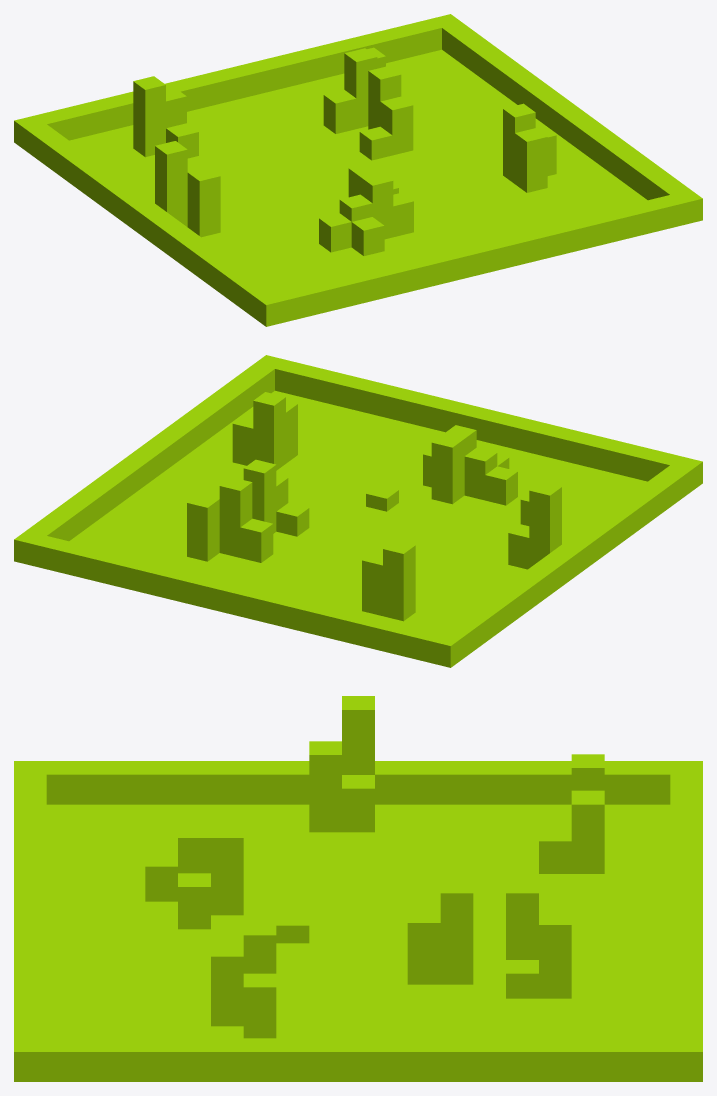
The model's file is map.fbx.
3 renders of one model, top to bottom at view 1: azimuth 30°, elevation 25°; view 2: azimuth 150°, elevation 25°; view 3: azimuth 270°, elevation 25°, orthographic. The views are drawn at different scales.
Visible parts, largest first — view 1: Plane; view 2: Plane; view 3: Plane.
Part boxes in pixels (box(x1,y1,x2,y2)): Plane: box(14, 14, 702, 326); Plane: box(14, 355, 702, 667); Plane: box(14, 696, 702, 1081).
Size of the model in its own units: 12.83 by 12.83 by 2.23.
